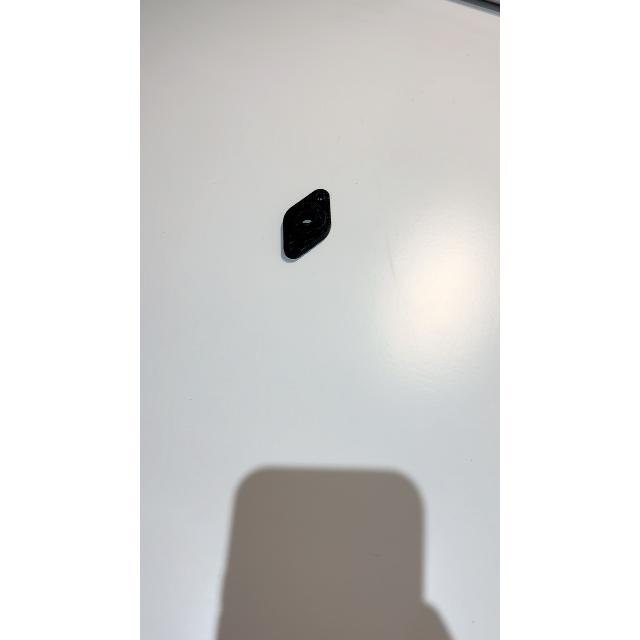Pieza2: (268, 178, 340, 274)
